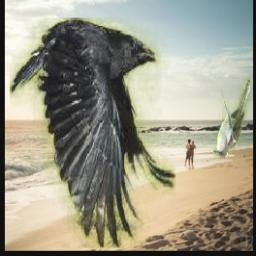Crow: (11, 19, 176, 249)
Cuckoo: (213, 77, 250, 159)
